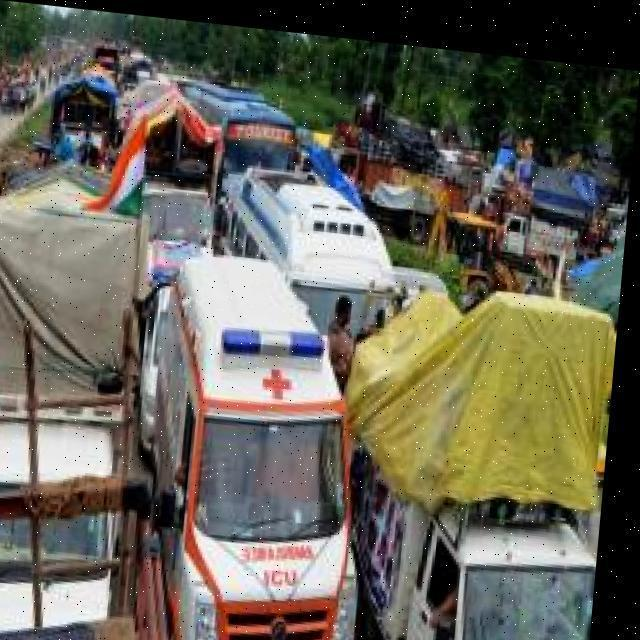Ambulance: (0, 26, 635, 640), (118, 237, 396, 640), (342, 261, 622, 520)
